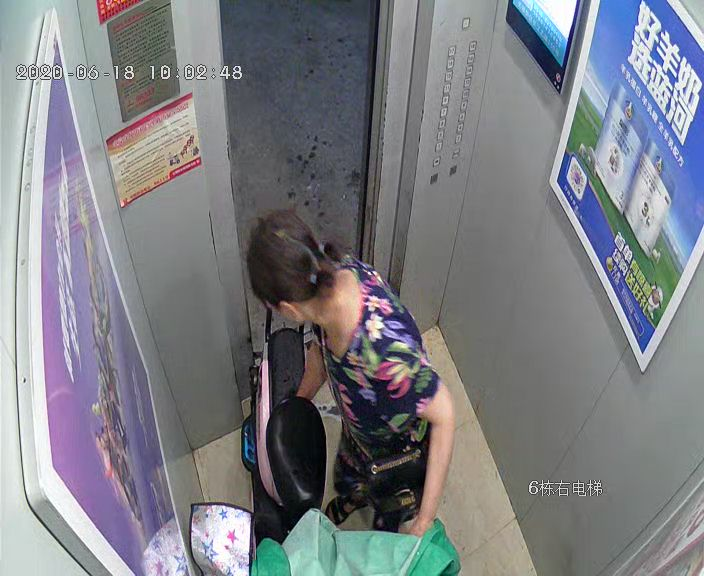Electric-bicycle: (197, 307, 422, 576)
